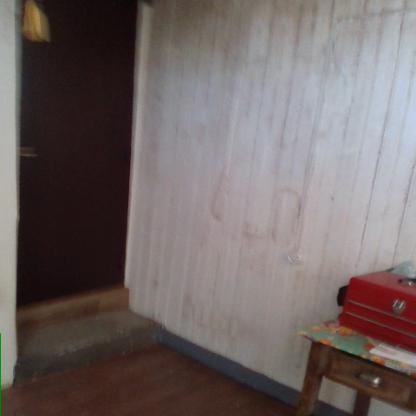door: (18, 0, 130, 310)
lever: (21, 150, 46, 161)
